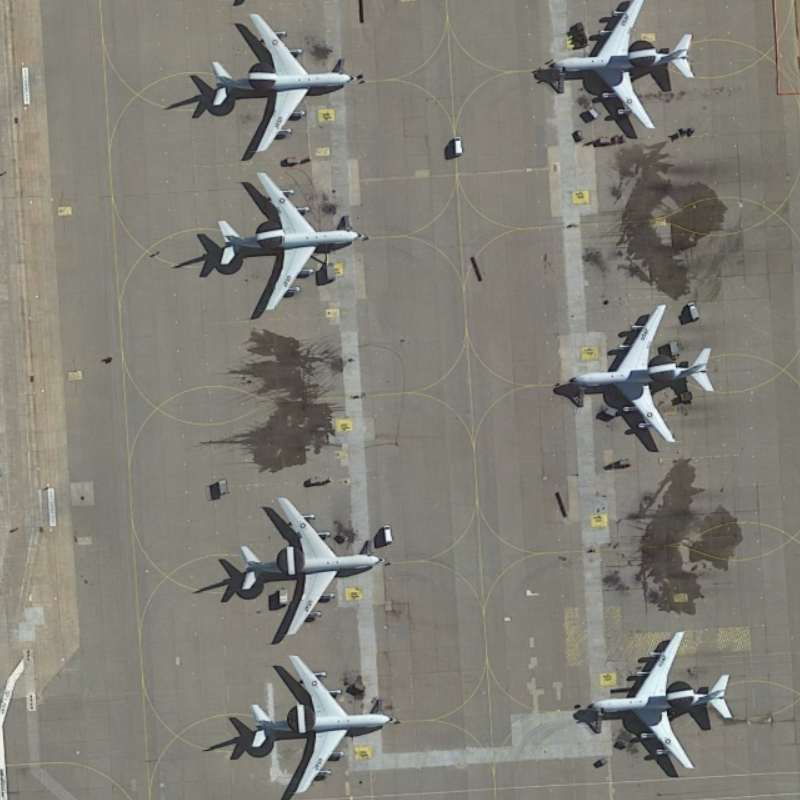A7: (576, 623, 744, 787), (200, 5, 358, 163), (557, 298, 717, 452), (232, 485, 388, 642), (241, 646, 400, 800), (530, 2, 704, 142), (212, 167, 364, 327)
